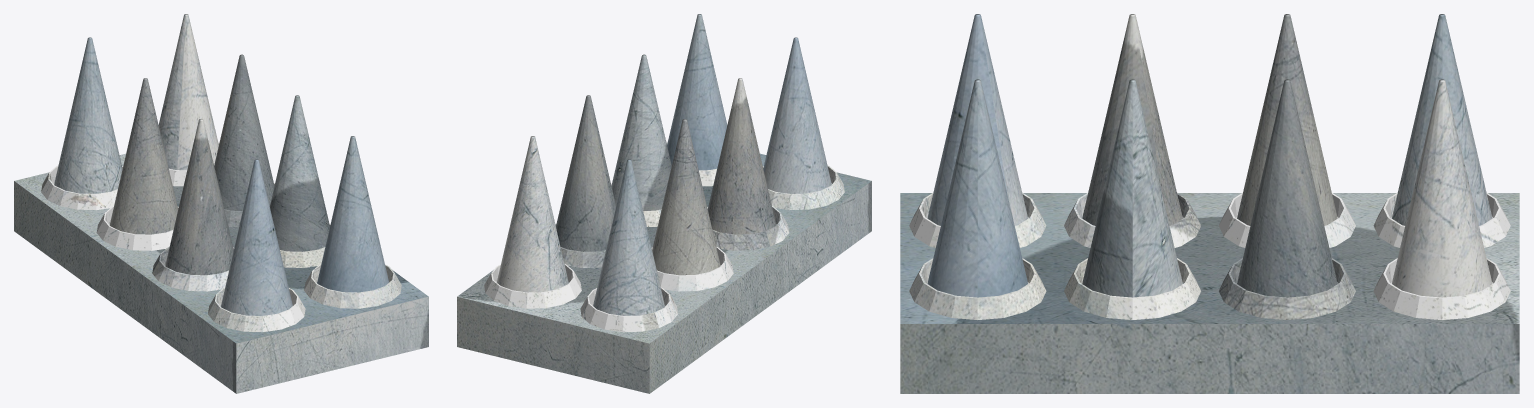
Rendered from spikes_scaled.fbx.
3 views of the same model, side by side, from view 1: azimuth 30°, elevation 25°; view 2: azimuth 150°, elevation 25°; view 3: azimuth 270°, elevation 25° (orthographic). The views are drawn at different scales.
Parts seen in each view (by area): view 1: pasted__spikes_scaled; view 2: pasted__spikes_scaled; view 3: pasted__spikes_scaled.
Boxes of the visible parts, x1,y1,x2,y2 form: pasted__spikes_scaled: (14,14,428,393); pasted__spikes_scaled: (457,14,871,393); pasted__spikes_scaled: (900,14,1519,393).
Bounding box in the file's own units: 80 × 80 × 160.
